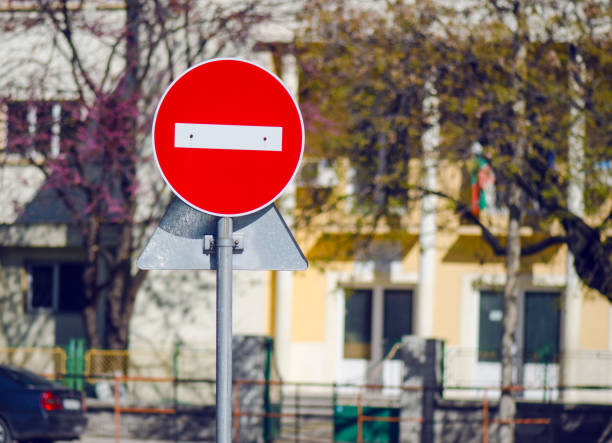Girilmez: (154, 59, 304, 215)
